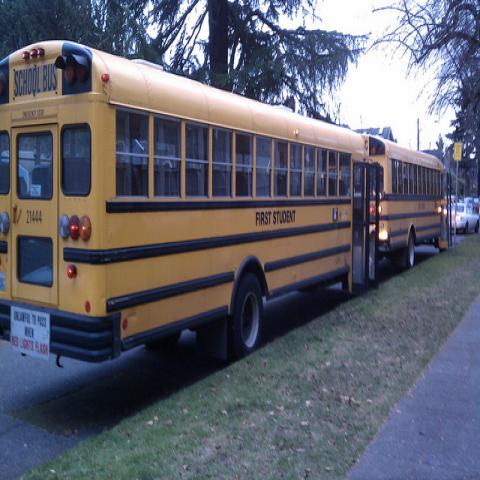bus: (2, 32, 385, 374), (360, 135, 448, 270)
car: (456, 202, 480, 234)
